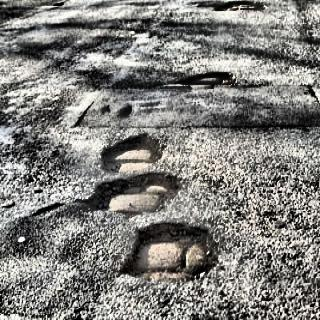pothole: (89, 132, 222, 282), (182, 68, 236, 92), (216, 0, 262, 13)
